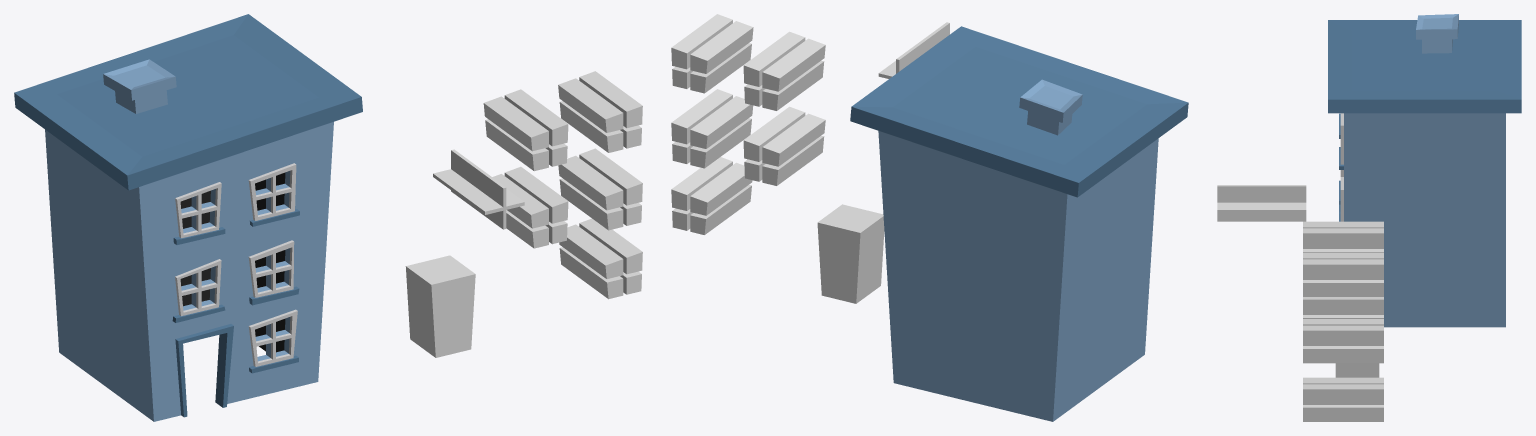
File: Small apartment building 2.fbx
The picture shows the model from 3 angles, left to right: view 1: azimuth 30°, elevation 25°; view 2: azimuth 150°, elevation 25°; view 3: azimuth 270°, elevation 25°; orthographic projection. The views are drawn at different scales.
Visible parts, largest first — view 1: Cube.008, Cube.001, Cube, Cube.002, Cube.003; view 2: Cube.008, Cube.001, Cube, Cube.002; view 3: Cube.008, Cube.001, Cube.002, Cube.003, Cube.
Boxes of the visible parts, x1,y1,x2,y2 form: Cube.008: (14,14,362,421); Cube.001: (483,71,642,299); Cube: (405,255,475,357); Cube.002: (451,149,506,229); Cube.003: (433,169,524,214); Cube.008: (850,26,1188,421); Cube.001: (671,14,825,234); Cube: (817,204,884,303); Cube.002: (896,22,949,73); Cube.008: (1328,14,1521,327); Cube.001: (1303,221,1383,421); Cube.002: (1217,185,1306,221); Cube.003: (1217,202,1306,212); Cube: (1335,363,1379,377).
Bounding box in the file's own units: 610 × 348 × 376.
